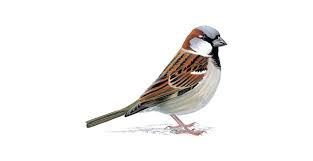hsparrow: (82, 24, 230, 141)
